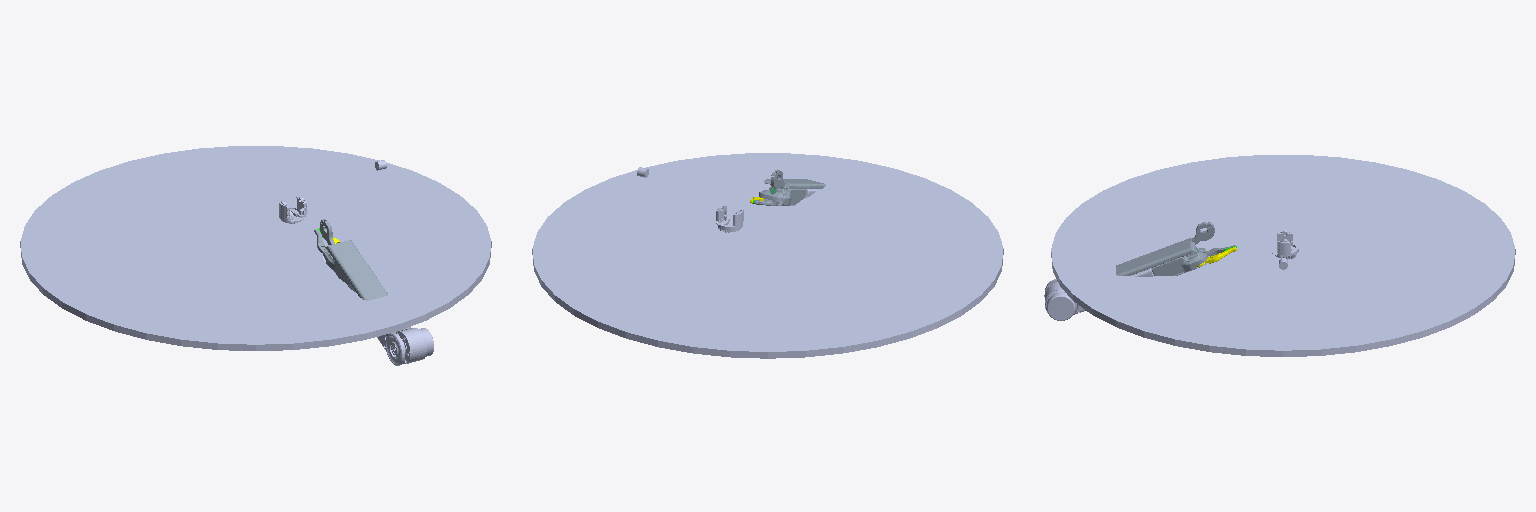
robot.urdf — 00_r50_arm_2_7_asm_090519.SLDASM:
<?xml version="1.0" encoding="utf-8"?>
<!-- This URDF was automatically created by SolidWorks to URDF Exporter! Originally created by Stephen Brawner (brawner@gmail.com) 
     Commit Version: 1.6.0-4-g7f85cfe  Build Version: 1.6.7995.38578
     For more information, please see http://wiki.ros.org/sw_urdf_exporter -->
<robot
  name="00_r50_arm_2_7_asm_090519.SLDASM">
  <link
    name="base_link">
    <inertial>
      <origin
        xyz="3.24164402938151E-18 0 -0.004"
        rpy="0 0 0" />
      <mass
        value="1.67684077148422" />
      <inertia
        ixx="0.0279783849570223"
        ixy="2.13636577824663E-34"
        ixz="-1.37288964807816E-36"
        iyy="0.0279783849570223"
        iyz="-3.34803611209534E-36"
        izz="0.0559388836124821" />
    </inertial>
    <visual>
      <origin
        xyz="0 0 0"
        rpy="0 0 0" />
      <geometry>
        <mesh
          filename="package://00_r50_arm_2_7_asm_090519.SLDASM/meshes/base_link.STL" />
      </geometry>
      <material
        name="">
        <color
          rgba="0.792156862745098 0.819607843137255 0.933333333333333 1" />
      </material>
    </visual>
    <collision>
      <origin
        xyz="0 0 0"
        rpy="0 0 0" />
      <geometry>
        <mesh
          filename="package://00_r50_arm_2_7_asm_090519.SLDASM/meshes/base_link.STL" />
      </geometry>
    </collision>
  </link>
  <link
    name="M0_chassis_link">
    <inertial>
      <origin
        xyz="0.00136577570445679 0.00457614464386958 0.050865910554472"
        rpy="0 0 0" />
      <mass
        value="0.562993295418594" />
      <inertia
        ixx="0.00571122448428108"
        ixy="-9.86810579767184E-05"
        ixz="-7.73193820500621E-05"
        iyy="0.00446519695859846"
        iyz="4.01631006535942E-05"
        izz="0.00995139177692554" />
    </inertial>
    <visual>
      <origin
        xyz="0 0 0"
        rpy="0 0 0" />
      <geometry>
        <mesh
          filename="package://00_r50_arm_2_7_asm_090519.SLDASM/meshes/M0_chassis_link.STL" />
      </geometry>
      <material
        name="">
        <color
          rgba="0.792156862745098 0.819607843137255 0.933333333333333 1" />
      </material>
    </visual>
    <collision>
      <origin
        xyz="0 0 0"
        rpy="0 0 0" />
      <geometry>
        <mesh
          filename="package://00_r50_arm_2_7_asm_090519.SLDASM/meshes/M0_chassis_link.STL" />
      </geometry>
    </collision>
  </link>
  <joint
    name="M0"
    type="continuous">
    <origin
      xyz="0 0 0"
      rpy="0 0 0" />
    <parent
      link="base_link" />
    <child
      link="M0_chassis_link" />
    <axis
      xyz="0 0 1" />
    <limit
      lower="-1.57"
      upper="1.57"
      effort="0"
      velocity="0" />
  </joint>
  <link
    name="M1_waist_link">
    <inertial>
      <origin
        xyz="-0.000668865369367741 -0.000622305190232215 0.0130167406772163"
        rpy="0 0 0" />
      <mass
        value="0.00497400390264145" />
      <inertia
        ixx="5.845779447197E-07"
        ixy="-8.84533844390089E-09"
        ixz="-4.78809964639897E-09"
        iyy="3.1638362617472E-07"
        iyz="-2.27222918559143E-09"
        izz="6.05508997506684E-07" />
    </inertial>
    <visual>
      <origin
        xyz="0 0 0"
        rpy="0 0 0" />
      <geometry>
        <mesh
          filename="package://00_r50_arm_2_7_asm_090519.SLDASM/meshes/M1_waist_link.STL" />
      </geometry>
      <material
        name="">
        <color
          rgba="0.792156862745098 0.819607843137255 0.933333333333333 1" />
      </material>
    </visual>
    <collision>
      <origin
        xyz="0 0 0"
        rpy="0 0 0" />
      <geometry>
        <mesh
          filename="package://00_r50_arm_2_7_asm_090519.SLDASM/meshes/M1_waist_link.STL" />
      </geometry>
    </collision>
  </link>
  <joint
    name="M1"
    type="revolute">
    <origin
      xyz="0.0475 0.002 0.015"
      rpy="0 0 -1.5708" />
    <parent
      link="M0_chassis_link" />
    <child
      link="M1_waist_link" />
    <axis
      xyz="0 0 1" />
    <limit
      lower="0"
      upper="1.57"
      effort="0"
      velocity="0" />
  </joint>
  <link
    name="M2_Aarm_link">
    <inertial>
      <origin
        xyz="0.0601508529134251 0.00123665391424775 0.00188438794798542"
        rpy="0 0 0" />
      <mass
        value="0.0335589548894408" />
      <inertia
        ixx="3.81265450953842E-06"
        ixy="1.26283511463203E-06"
        ixz="-7.89506323755863E-07"
        iyy="2.09105856881561E-05"
        iyz="2.9593626101945E-07"
        izz="1.82970866819242E-05" />
    </inertial>
    <visual>
      <origin
        xyz="0 0 0"
        rpy="0 0 0" />
      <geometry>
        <mesh
          filename="package://00_r50_arm_2_7_asm_090519.SLDASM/meshes/M2_Aarm_link.STL" />
      </geometry>
      <material
        name="">
        <color
          rgba="1 0.447058823529412 0 1" />
      </material>
    </visual>
    <collision>
      <origin
        xyz="0 0 0"
        rpy="0 0 0" />
      <geometry>
        <mesh
          filename="package://00_r50_arm_2_7_asm_090519.SLDASM/meshes/M2_Aarm_link.STL" />
      </geometry>
    </collision>
  </link>
  <joint
    name="M2"
    type="revolute">
    <origin
      xyz="0 -0.000300000000000002 0.0248"
      rpy="0 0 0" />
    <parent
      link="M1_waist_link" />
    <child
      link="M2_Aarm_link" />
    <axis
      xyz="0 -1 0" />
    <limit
      lower="0"
      upper="1.57"
      effort="0"
      velocity="0" />
  </joint>
  <link
    name="M3_Barm_link">
    <inertial>
      <origin
        xyz="-0.0873350487257374 0.00602631355894911 0.00831812874509527"
        rpy="0 0 0" />
      <mass
        value="0.0169313899121356" />
      <inertia
        ixx="1.62078716548508E-06"
        ixy="5.54136544325576E-09"
        ixz="1.35955447205471E-06"
        iyy="5.08397363816854E-05"
        iyz="3.05696282513903E-08"
        izz="5.20715378455312E-05" />
    </inertial>
    <visual>
      <origin
        xyz="0 0 0"
        rpy="0 0 0" />
      <geometry>
        <mesh
          filename="package://00_r50_arm_2_7_asm_090519.SLDASM/meshes/M3_Barm_link.STL" />
      </geometry>
      <material
        name="">
        <color
          rgba="0.631372549019608 0.686274509803922 0.749019607843137 1" />
      </material>
    </visual>
    <collision>
      <origin
        xyz="0 0 0"
        rpy="0 0 0" />
      <geometry>
        <mesh
          filename="package://00_r50_arm_2_7_asm_090519.SLDASM/meshes/M3_Barm_link.STL" />
      </geometry>
    </collision>
  </link>
  <joint
    name="M3"
    type="revolute">
    <origin
      xyz="0.09035 -0.0084 0.00639"
      rpy="0 0 0" />
    <parent
      link="M2_Aarm_link" />
    <child
      link="M3_Barm_link" />
    <axis
      xyz="0 1 0" />
    <limit
      lower="2.35"
      upper="4.71"
      effort="0"
      velocity="0" />
  </joint>
  <link
    name="M4_Carm_link">
    <inertial>
      <origin
        xyz="0.0404507901463028 0.00869643107529672 0.00532119347306536"
        rpy="0 0 0" />
      <mass
        value="0.0414242498680461" />
      <inertia
        ixx="3.96135602317047E-06"
        ixy="-1.82754946388271E-06"
        ixz="-1.31594507533417E-06"
        iyy="3.86803433863594E-05"
        iyz="-1.97013084572357E-07"
        izz="3.73675727833538E-05" />
    </inertial>
    <visual>
      <origin
        xyz="0 0 0"
        rpy="0 0 0" />
      <geometry>
        <mesh
          filename="package://00_r50_arm_2_7_asm_090519.SLDASM/meshes/M4_Carm_link.STL" />
      </geometry>
      <material
        name="">
        <color
          rgba="0.792156862745098 0.819607843137255 0.933333333333333 1" />
      </material>
    </visual>
    <collision>
      <origin
        xyz="0 0 0"
        rpy="0 0 0" />
      <geometry>
        <mesh
          filename="package://00_r50_arm_2_7_asm_090519.SLDASM/meshes/M4_Carm_link.STL" />
      </geometry>
    </collision>
  </link>
  <joint
    name="M4"
    type="revolute">
    <origin
      xyz="-0.17735 0 0.01428"
      rpy="0 0 0" />
    <parent
      link="M3_Barm_link" />
    <child
      link="M4_Carm_link" />
    <axis
      xyz="0 -1 0" />
    <limit
      lower="0"
      upper="3.1416"
      effort="0"
      velocity="0" />
  </joint>
  <link
    name="M5_wrist_link">
    <inertial>
      <origin
        xyz="0.0315265657461829 0.00193576384099629 -0.00200191219166715"
        rpy="0 0 0" />
      <mass
        value="0.00872729923914655" />
      <inertia
        ixx="7.96067753682824E-07"
        ixy="-1.02128789144519E-07"
        ixz="-3.50715522753616E-08"
        iyy="4.19286631749308E-06"
        iyz="8.90328348932758E-09"
        izz="4.79555749529131E-06" />
    </inertial>
    <visual>
      <origin
        xyz="0 0 0"
        rpy="0 0 0" />
      <geometry>
        <mesh
          filename="package://00_r50_arm_2_7_asm_090519.SLDASM/meshes/M5_wrist_link.STL" />
      </geometry>
      <material
        name="">
        <color
          rgba="0.631372549019608 0.686274509803922 0.749019607843137 1" />
      </material>
    </visual>
    <collision>
      <origin
        xyz="0 0 0"
        rpy="0 0 0" />
      <geometry>
        <mesh
          filename="package://00_r50_arm_2_7_asm_090519.SLDASM/meshes/M5_wrist_link.STL" />
      </geometry>
    </collision>
  </link>
  <joint
    name="M5"
    type="revolute">
    <origin
      xyz="0.10124419863928 0.00720000000000399 0.0085050660083681"
      rpy="0 -3.49065850770887E-05 0" />
    <parent
      link="M4_Carm_link" />
    <child
      link="M5_wrist_link" />
    <axis
      xyz="1 0 0" />
    <limit
      lower="-2.4422"
      upper="3.1416"
      effort="0"
      velocity="0" />
  </joint>
  <link
    name="M6_1_leftfinger_link">
    <inertial>
      <origin
        xyz="0.013982 0.00051741 0.0015711"
        rpy="0 0 0" />
      <mass
        value="0.0014426" />
      <inertia
        ixx="1.4899E-08"
        ixy="1.1217E-08"
        ixz="-6.9674E-09"
        iyy="1.8611E-07"
        iyz="2.4355E-10"
        izz="1.962E-07" />
    </inertial>
    <visual>
      <origin
        xyz="0 0 0"
        rpy="0 0 0" />
      <geometry>
        <mesh
          filename="package://00_r50_arm_2_7_asm_090519.SLDASM/meshes/M6_1_leftfinger_link.STL" />
      </geometry>
      <material
        name="">
        <color
          rgba="1 1 0 1" />
      </material>
    </visual>
    <collision>
      <origin
        xyz="0 0 0"
        rpy="0 0 0" />
      <geometry>
        <mesh
          filename="package://00_r50_arm_2_7_asm_090519.SLDASM/meshes/M6_1_leftfinger_link.STL" />
      </geometry>
    </collision>
  </link>
  <joint
    name="M6_1"
    type="revolute">
    <origin
      xyz="0.0605 0.010481 0.0041935"
      rpy="0 -4.3588E-05 -0.067803" />
    <parent
      link="M5_wrist_link" />
    <child
      link="M6_1_leftfinger_link" />
    <axis
      xyz="0 0.00063951 1" />
    <limit
      lower="0"
      upper="1.05"
      effort="0"
      velocity="0" />
  </joint>
  <link
    name="M6_1_1_LINK">
    <inertial>
      <origin
        xyz="-0.00764458572106805 0.000589340705618953 0.00064972552314535"
        rpy="0 0 0" />
      <mass
        value="8.71079009688527E-05" />
      <inertia
        ixx="1.24189663706984E-10"
        ixy="1.31251874982644E-10"
        ixz="-5.36166964307191E-14"
        iyy="1.60719468407998E-09"
        iyz="5.76573046208739E-15"
        izz="1.55996325740076E-09" />
    </inertial>
    <visual>
      <origin
        xyz="0 0 0"
        rpy="0 0 0" />
      <geometry>
        <mesh
          filename="package://00_r50_arm_2_7_asm_090519.SLDASM/meshes/M6_1_1_LINK.STL" />
      </geometry>
      <material
        name="">
        <color
          rgba="0 1 0 1" />
      </material>
    </visual>
    <collision>
      <origin
        xyz="0 0 0"
        rpy="0 0 0" />
      <geometry>
        <mesh
          filename="package://00_r50_arm_2_7_asm_090519.SLDASM/meshes/M6_1_1_LINK.STL" />
      </geometry>
    </collision>
  </link>
  <joint
    name="M6_1_1"
    type="fixed">
    <origin
      xyz="0.043017 -0.0046936 0.0022627"
      rpy="-0.00063804 7.8234E-05 0.067803" />
    <parent
      link="M6_1_leftfinger_link" />
    <child
      link="M6_1_1_LINK" />
    <axis
      xyz="0 0 0" />
  </joint>
  <link
    name="M6_2_rightfinger_link">
    <inertial>
      <origin
        xyz="0.0143565123042391 0.000729830683731197 0.00156306392377183"
        rpy="0 0 0" />
      <mass
        value="0.00141318592696523" />
      <inertia
        ixx="1.75562373535465E-08"
        ixy="-2.39465037947659E-08"
        ixz="-6.5921961397348E-09"
        iyy="1.6887774999712E-07"
        iyz="-7.77287835987433E-10"
        izz="1.81649658712025E-07" />
    </inertial>
    <visual>
      <origin
        xyz="0 0 0"
        rpy="0 0 0" />
      <geometry>
        <mesh
          filename="package://00_r50_arm_2_7_asm_090519.SLDASM/meshes/M6_2_rightfinger_link.STL" />
      </geometry>
      <material
        name="">
        <color
          rgba="0.631372549019608 0.686274509803922 0.749019607843137 1" />
      </material>
    </visual>
    <collision>
      <origin
        xyz="0 0 0"
        rpy="0 0 0" />
      <geometry>
        <mesh
          filename="package://00_r50_arm_2_7_asm_090519.SLDASM/meshes/M6_2_rightfinger_link.STL" />
      </geometry>
    </collision>
  </link>
  <joint
    name="M6_2_rightfinger"
    type="revolute">
    <origin
      xyz="0.0605 -0.0056192 0.0042038"
      rpy="0 -1.1228E-05 -0.017453" />
    <parent
      link="M5_wrist_link" />
    <child
      link="M6_2_rightfinger_link" />
    <axis
      xyz="-4.6129E-05 0 -1" />
    <limit
      lower="0"
      upper="1.05"
      effort="0"
      velocity="0" />
  </joint>
  <link
    name="M6_2_2_LINK">
    <inertial>
      <origin
        xyz="-0.00764458574864088 -0.000589340362462359 0.000649740782284747"
        rpy="0 0 0" />
      <mass
        value="8.71079009790298E-05" />
      <inertia
        ixx="1.24189651423148E-10"
        ixy="-1.31251808542914E-10"
        ixz="-4.66192794879574E-14"
        iyy="1.60719469609687E-09"
        iyz="-3.39740566350106E-15"
        izz="1.55996325817844E-09" />
    </inertial>
    <visual>
      <origin
        xyz="0 0 0"
        rpy="0 0 0" />
      <geometry>
        <mesh
          filename="package://00_r50_arm_2_7_asm_090519.SLDASM/meshes/M6_2_2_LINK.STL" />
      </geometry>
      <material
        name="">
        <color
          rgba="0 1 0 1" />
      </material>
    </visual>
    <collision>
      <origin
        xyz="0 0 0"
        rpy="0 0 0" />
      <geometry>
        <mesh
          filename="package://00_r50_arm_2_7_asm_090519.SLDASM/meshes/M6_2_2_LINK.STL" />
      </geometry>
    </collision>
  </link>
  <joint
    name="M6_2_2"
    type="fixed">
    <origin
      xyz="0.042461 0.0083424 0.0022543"
      rpy="-0.00064255 4.6122E-05 0.017453" />
    <parent
      link="M6_2_rightfinger_link" />
    <child
      link="M6_2_2_LINK" />
    <axis
      xyz="0 0 0" />
  </joint>
  <link
    name="gripper_link">
    <inertial>
      <origin
        xyz="-0.0303650548002333 0.000104933366119137 0.00427352567522586"
        rpy="0 0 0" />
      <mass
        value="0.00251626877406126" />
      <inertia
        ixx="1.58777982864623E-07"
        ixy="-1.17682733893433E-08"
        ixz="1.29992025760309E-08"
        iyy="8.52340945305528E-07"
        iyz="4.08791469905171E-10"
        izz="1.00339851859812E-06" />
    </inertial>
    <visual>
      <origin
        xyz="0 0 0"
        rpy="0 0 0" />
      <geometry>
        <mesh
          filename="package://00_r50_arm_2_7_asm_090519.SLDASM/meshes/gripper_link.STL" />
      </geometry>
      <material
        name="">
        <color
          rgba="0.792156862745098 0.819607843137255 0.933333333333333 1" />
      </material>
    </visual>
    <collision>
      <origin
        xyz="0 0 0"
        rpy="0 0 0" />
      <geometry>
        <mesh
          filename="package://00_r50_arm_2_7_asm_090519.SLDASM/meshes/gripper_link.STL" />
      </geometry>
    </collision>
  </link>
  <joint
    name="gripper"
    type="fixed">
    <origin
      xyz="0.0697860659171 0.00243212529928823 0.00414866081772022"
      rpy="-0.000643350580411366 3.49065850770886E-05 0" />
    <parent
      link="M5_wrist_link" />
    <child
      link="gripper_link" />
    <axis
      xyz="0 0 0" />
  </joint>
  <link
    name="camera_Link">
    <inertial>
      <origin
        xyz="1.38777878078145E-17 -2.77555756156289E-17 -0.000499999999999987"
        rpy="0 0 0" />
      <mass
        value="5.02654824574367E-05" />
      <inertia
        ixx="2.05250720034535E-10"
        ixy="6.23400632935311E-25"
        ixz="-1.82752530392498E-27"
        iyy="2.05250720034533E-10"
        iyz="4.24028513774137E-26"
        izz="4.02123859659495E-10" />
    </inertial>
    <visual>
      <origin
        xyz="0 0 0"
        rpy="0 0 0" />
      <geometry>
        <mesh
          filename="package://00_r50_arm_2_7_asm_090519.SLDASM/meshes/camera_Link.STL" />
      </geometry>
      <material
        name="">
        <color
          rgba="0.427450980392157 0.749019607843137 0.592156862745098 1" />
      </material>
    </visual>
    <collision>
      <origin
        xyz="0 0 0"
        rpy="0 0 0" />
      <geometry>
        <mesh
          filename="package://00_r50_arm_2_7_asm_090519.SLDASM/meshes/camera_Link.STL" />
      </geometry>
    </collision>
  </link>
  <joint
    name="camera"
    type="fixed">
    <origin
      xyz="0.061399999999997 0.00242611169774409 -0.00515133723805639"
      rpy="-1.5707963267949 0 -1.5707963267949" />
    <parent
      link="M5_wrist_link" />
    <child
      link="camera_Link" />
    <axis
      xyz="0 0 0" />
  </joint>
  <link
    name="tof_axis">
    <inertial>
      <origin
        xyz="2.65966146459508E-19 -0.005 0"
        rpy="0 0 0" />
      <mass
        value="0.000785398163397449" />
      <inertia
        ixx="1.14537232162128E-08"
        ixy="3.58732406867153E-41"
        ixz="-3.74939945665465E-41"
        iyy="9.81747704246811E-09"
        iyz="-3.79439225013451E-41"
        izz="1.14537232162128E-08" />
    </inertial>
    <visual>
      <origin
        xyz="0 0 0"
        rpy="0 0 0" />
      <geometry>
        <mesh
          filename="package://00_r50_arm_2_7_asm_090519.SLDASM/meshes/tof_axis.STL" />
      </geometry>
      <material
        name="">
        <color
          rgba="0.792156862745098 0.819607843137255 0.933333333333333 1" />
      </material>
    </visual>
    <collision>
      <origin
        xyz="0 0 0"
        rpy="0 0 0" />
      <geometry>
        <mesh
          filename="package://00_r50_arm_2_7_asm_090519.SLDASM/meshes/tof_axis.STL" />
      </geometry>
    </collision>
  </link>
  <joint
    name="tof"
    type="fixed">
    <origin
      xyz="0.1631 0 0.0599"
      rpy="0 0 -1.5707963267949" />
    <parent
      link="M0_chassis_link" />
    <child
      link="tof_axis" />
    <axis
      xyz="0 0 0" />
  </joint>
</robot>

--- Render facts (derived) ---
The picture shows the robot from 3 angles, left to right: view 1: azimuth 30°, elevation 25°; view 2: azimuth 150°, elevation 25°; view 3: azimuth 270°, elevation 25°; orthographic projection.
Robot: 00_r50_arm_2_7_asm_090519.SLDASM — 14 links, 13 joints (7 revolute, 1 continuous, 5 fixed); root link base_link; default pose: all joints at 0 but 1 set to mid-range because 0 is outside their limits (M3 = 3.53).
Links seen in each view (by area): view 1: base_link, M3_Barm_link, M4_Carm_link, M1_waist_link; view 2: base_link, M3_Barm_link, M1_waist_link, M5_wrist_link; view 3: base_link, M3_Barm_link, M4_Carm_link, M5_wrist_link, M1_waist_link.
Boxes of the visible links, x1,y1,x2,y2 form: base_link: (20,146,491,350); M3_Barm_link: (320,219,410,354); M4_Carm_link: (348,283,433,365); M1_waist_link: (279,196,306,223); base_link: (532,153,1003,358); M3_Barm_link: (764,170,825,188); M1_waist_link: (716,205,743,232); M5_wrist_link: (759,187,805,204); base_link: (1051,155,1515,356); M3_Barm_link: (1116,222,1214,275); M4_Carm_link: (1044,268,1153,320); M5_wrist_link: (1151,246,1207,275); M1_waist_link: (1272,231,1298,259).
Size in the robot's own frame: 0.5158 by 0.5236 by 0.1174 metres.
Meshes: 14 distinct files referenced, 12 mesh visuals loaded (12 binary STL); not drawn: 2 (reference not matched to a file when rendering).
